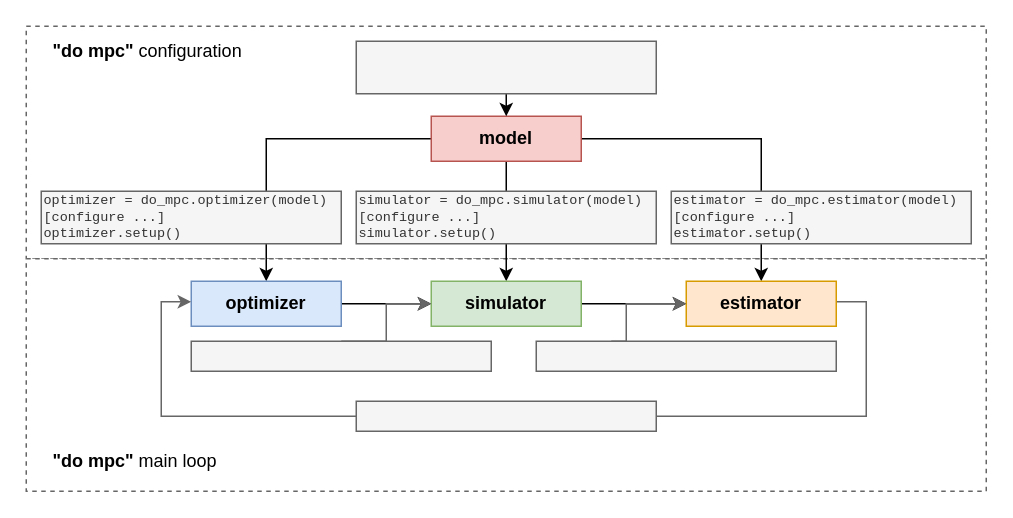
Some shapes in this 1013 by 518 pixel diagram are drawn without their labels. Here are the shapes that lost their labels. From the top down, the box of each, then its label:
(355, 40, 656, 94): model = do_mpc.model('continuous') [configure ...] model.setup()
(190, 340, 491, 371): u = optimizer.make_step(x)
(535, 340, 836, 371): y = simulator.make_step(u)
(355, 400, 656, 431): x = estimator.make_step(y)
